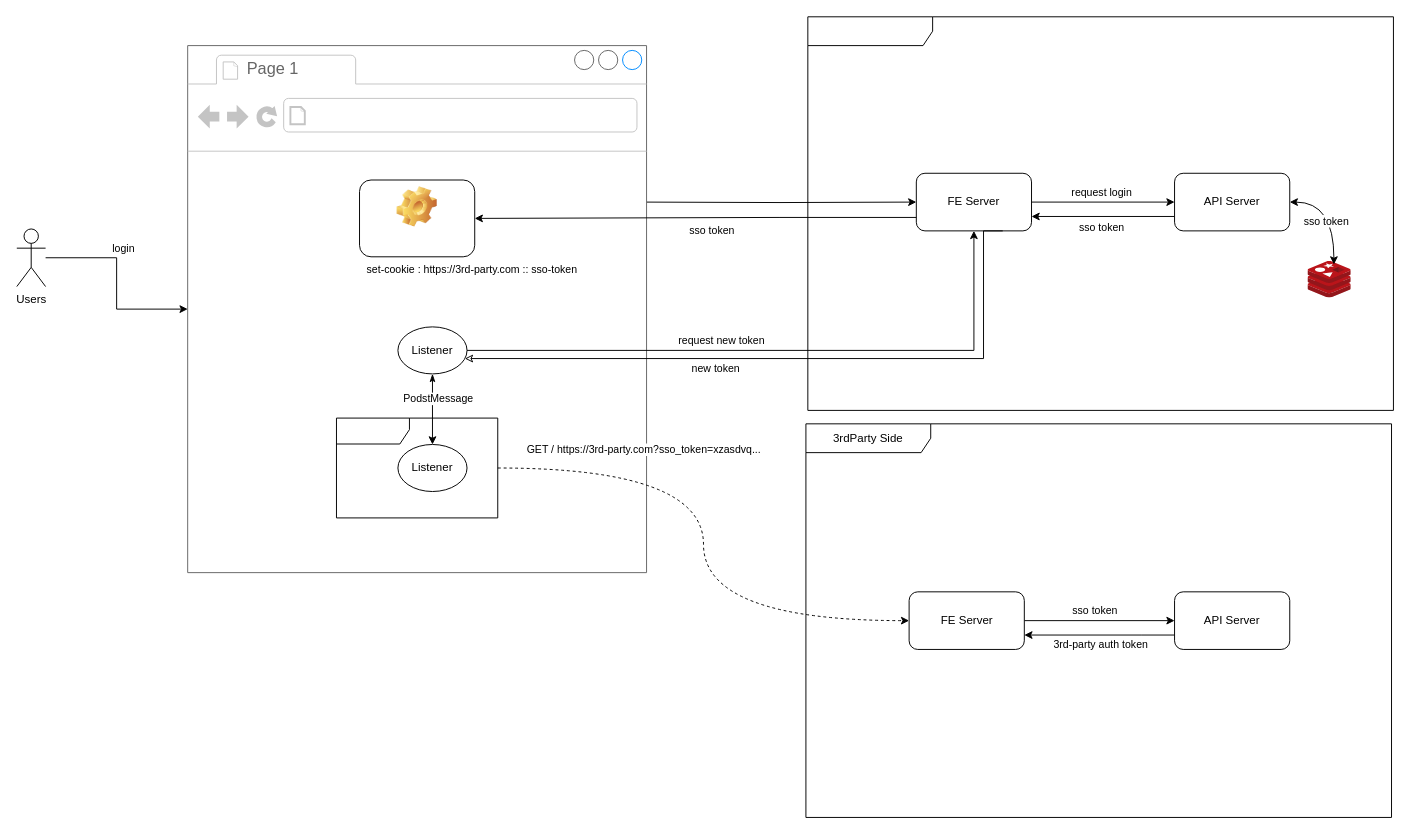
This 1410x834 diagram has some shape labels left out. The box of each missing label's shape, as (x1, y1, x2, y2) in pixels:
Cookie: (359, 179, 475, 257)
https://s1esp.com: (312, 102, 552, 128)
iframe: (336, 417, 498, 518)
S1ESP Side: (807, 16, 1393, 410)
